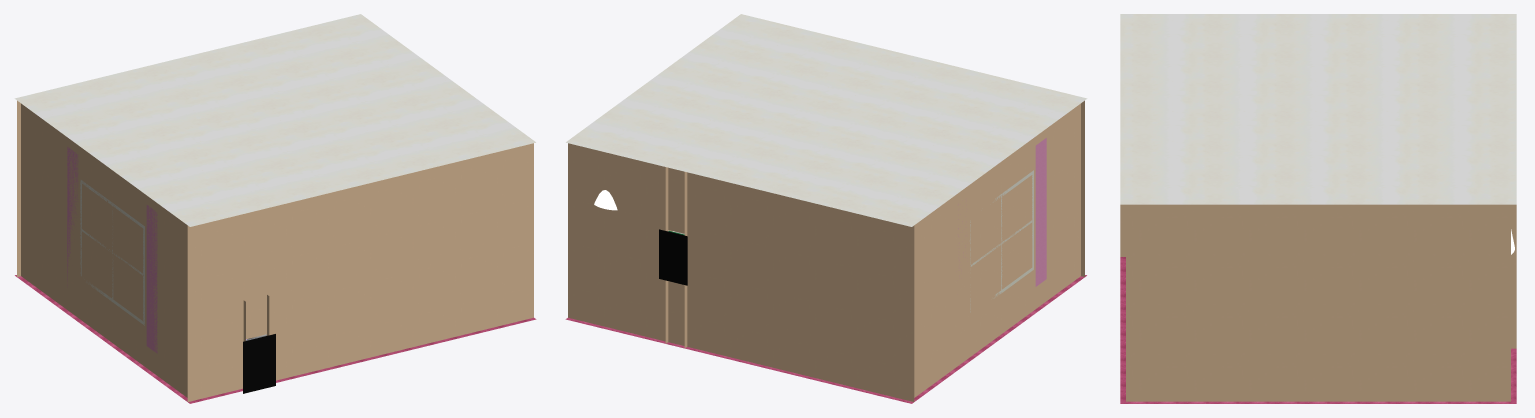
File: rdwe_giant_chair.glb
The picture shows the model from 3 angles, left to right: view 1: azimuth 30°, elevation 25°; view 2: azimuth 150°, elevation 25°; view 3: azimuth 270°, elevation 25°; orthographic projection. The views are drawn at different scales.
Visible parts, largest first — view 1: Wall_Peach_Paper, Ceil_Plaster, Linen_Pink, Floor_Shag_Rose, Void, Trim_Cream; view 2: Wall_Peach_Paper, Ceil_Plaster, Floor_Shag_Rose, Linen_Pink, Void, Trim_Cream; view 3: Wall_Peach_Paper, Ceil_Plaster, Floor_Shag_Rose.
Boxes of the visible parts, x1,y1,x2,y2 form: Wall_Peach_Paper: (17, 100, 533, 401); Ceil_Plaster: (14, 14, 535, 226); Linen_Pink: (67, 146, 157, 353); Floor_Shag_Rose: (15, 275, 536, 403); Void: (243, 334, 275, 393); Trim_Cream: (80, 180, 266, 335); Wall_Peach_Paper: (568, 100, 1084, 401); Ceil_Plaster: (566, 14, 1087, 226); Floor_Shag_Rose: (565, 275, 1086, 403); Linen_Pink: (958, 138, 1046, 286); Void: (659, 229, 687, 285); Trim_Cream: (668, 170, 1033, 312); Wall_Peach_Paper: (1120, 204, 1516, 401); Ceil_Plaster: (1120, 14, 1516, 204); Floor_Shag_Rose: (1120, 257, 1516, 403).
Size of the model in its own units: 16.4 by 8.05 by 14.7.
32 materials, 24 textured.
